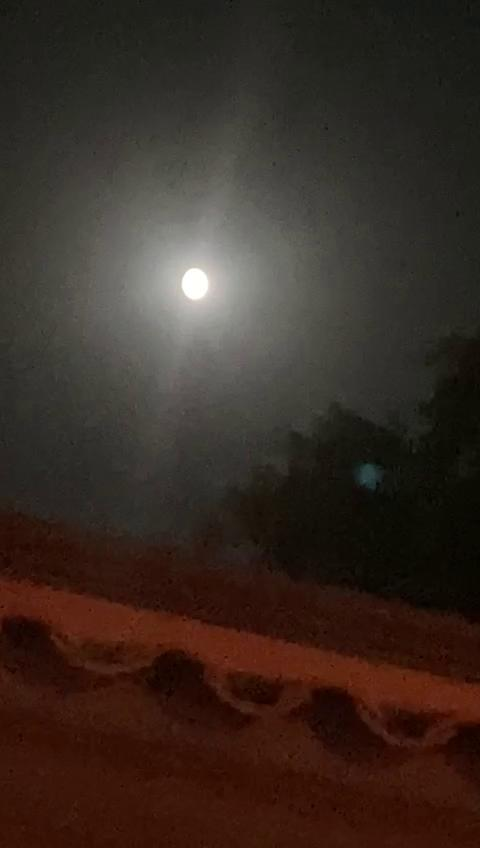moon: (180, 271, 224, 322)
